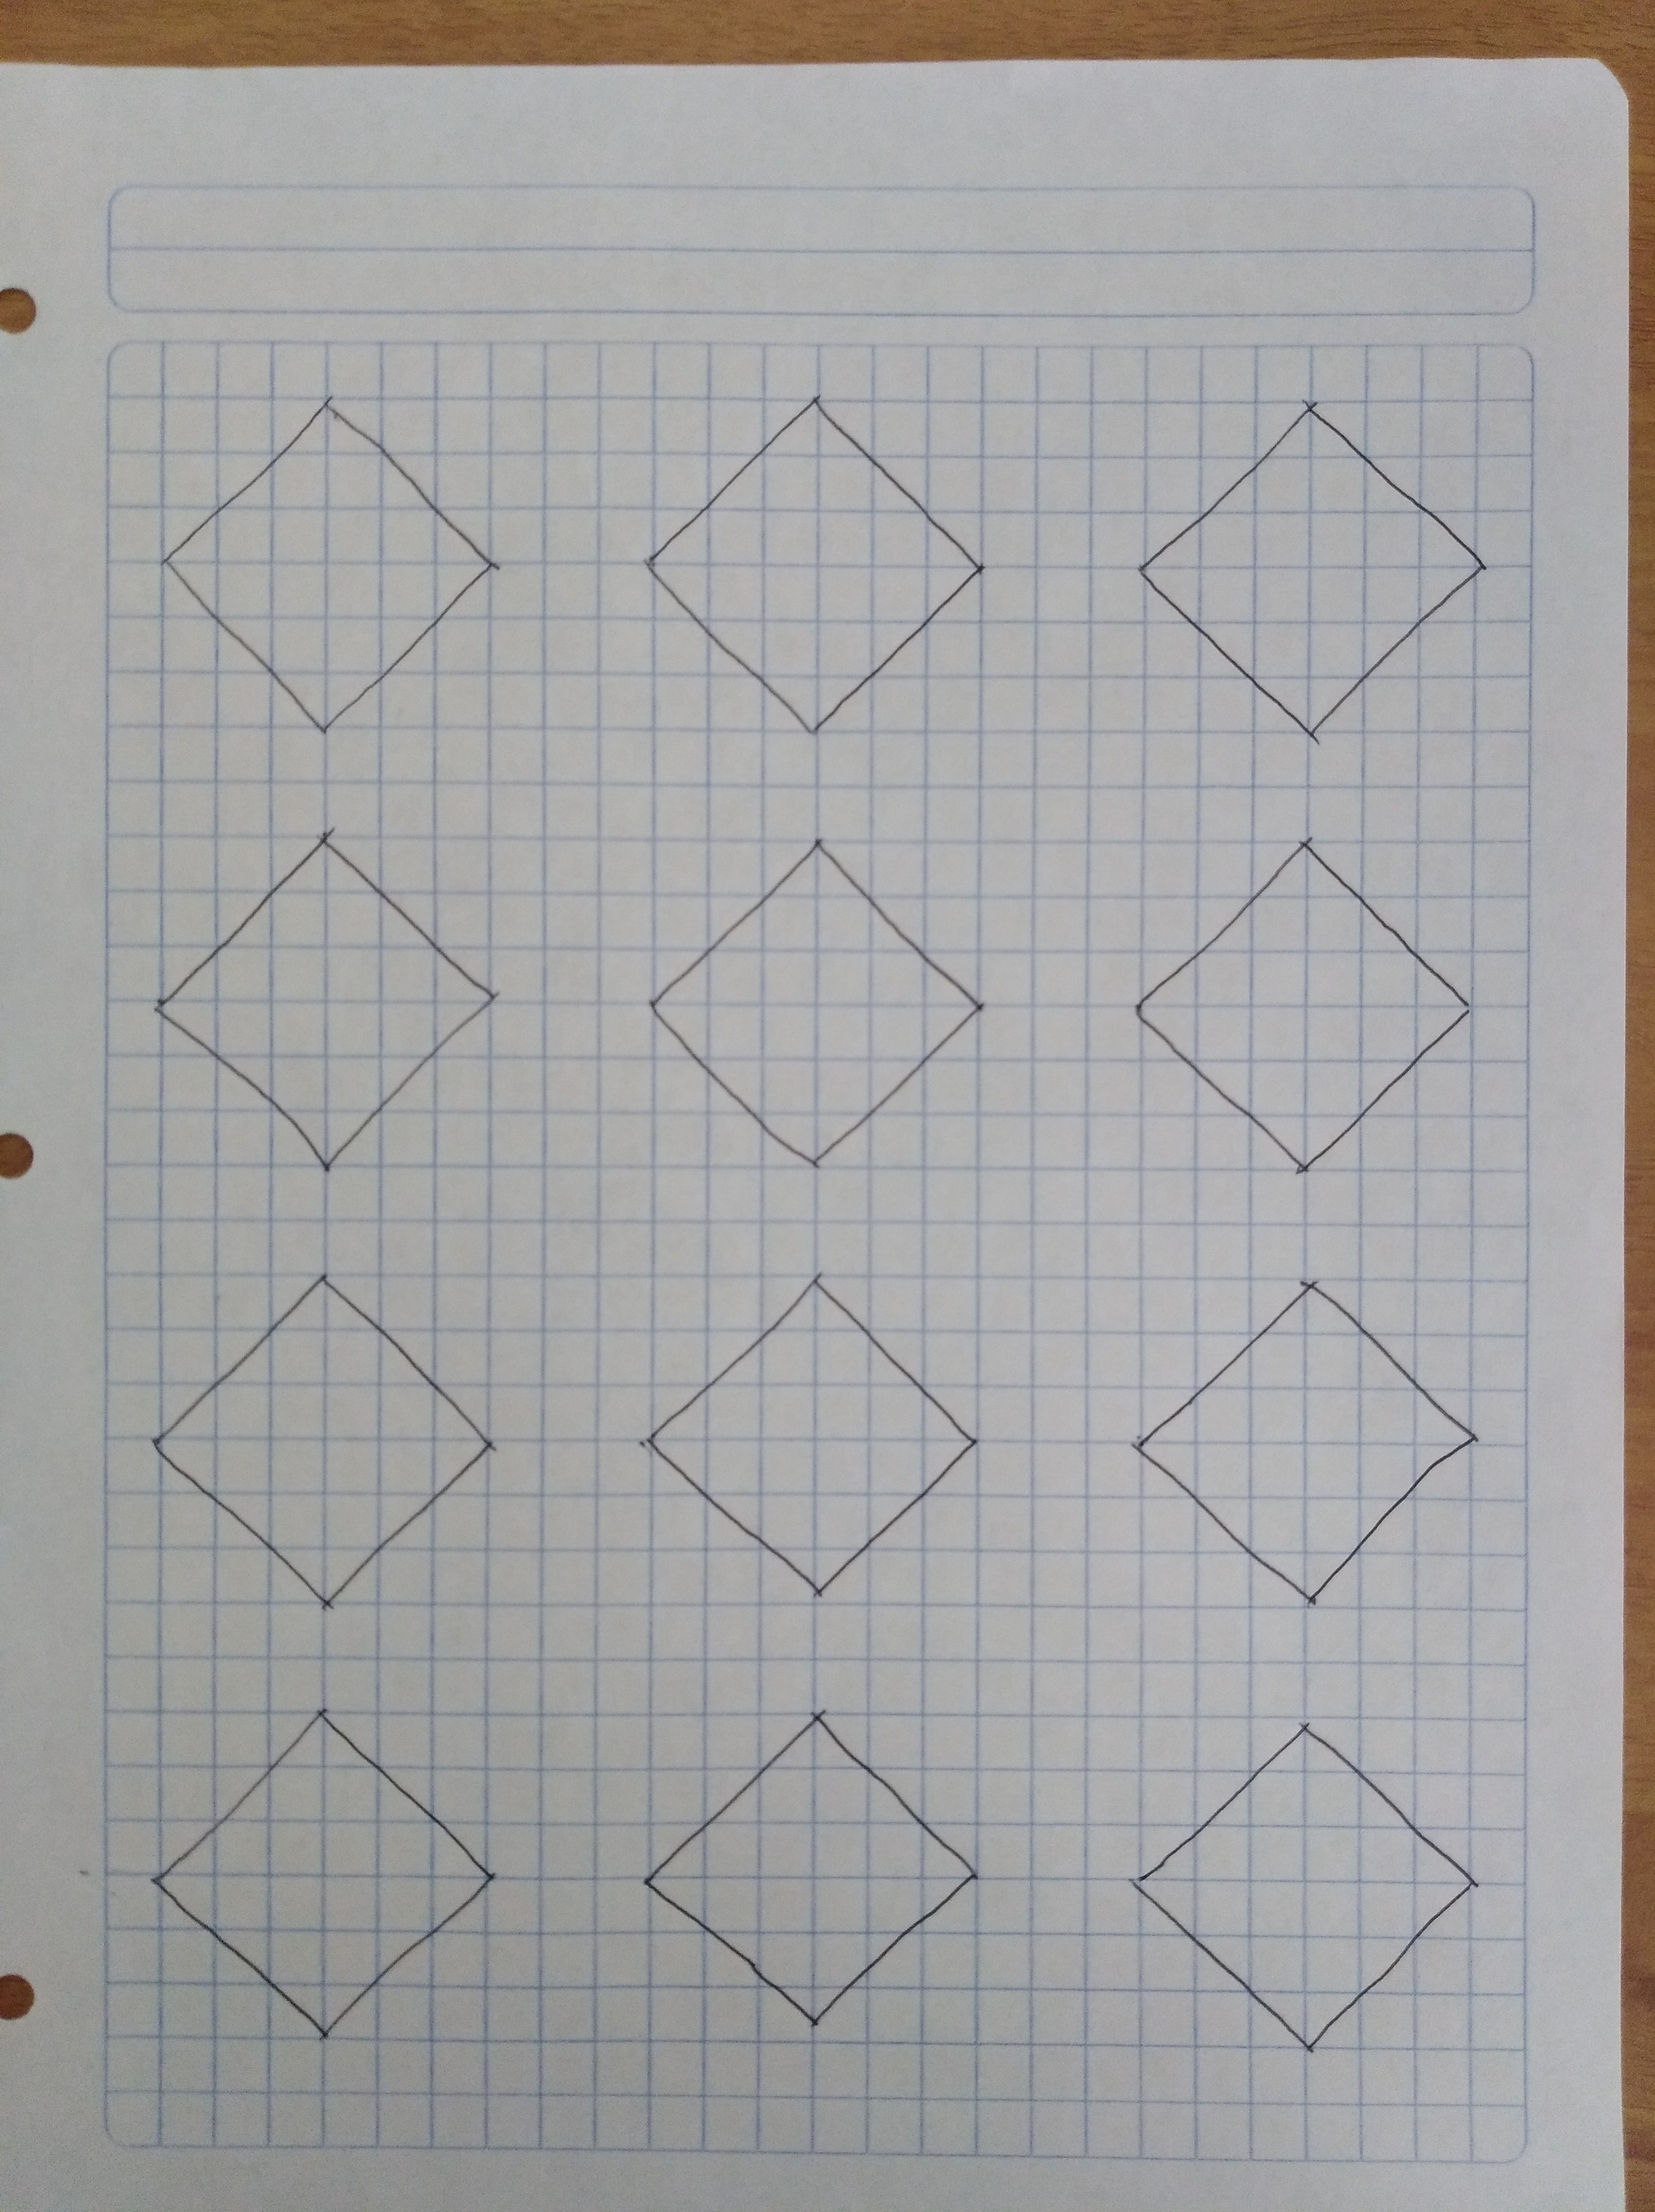decision: (108, 1685, 551, 2063), (612, 801, 1014, 1202), (1106, 1235, 1509, 1632), (116, 1248, 535, 1628), (1102, 1679, 1497, 2082), (118, 808, 534, 1190), (1118, 363, 1505, 766), (1107, 811, 1505, 1202), (619, 363, 1007, 759), (624, 1672, 1008, 2056), (130, 377, 522, 749), (621, 1248, 1000, 1614)
